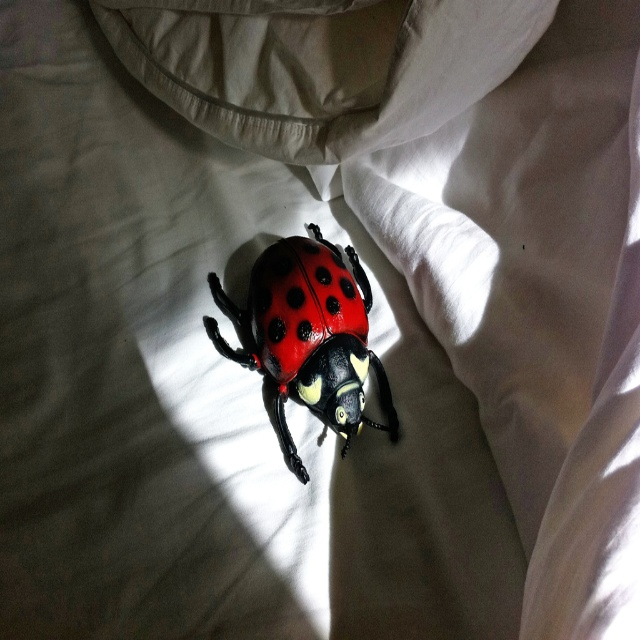Ladybug: (202, 220, 400, 484)
